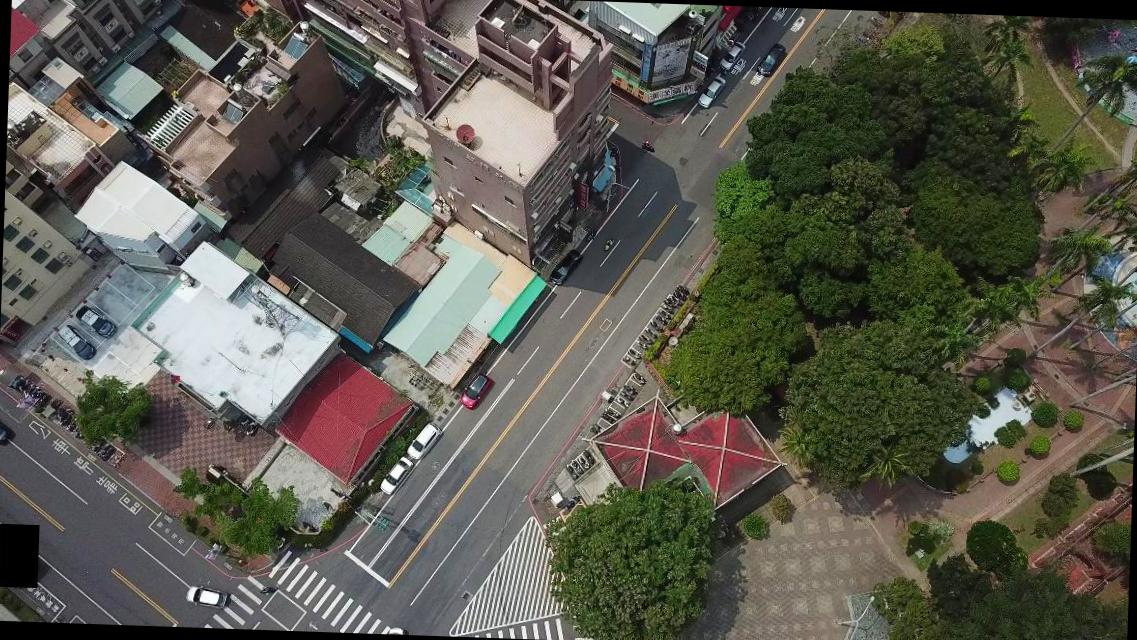vehicle: (405, 421, 442, 462), (378, 454, 413, 496), (73, 305, 117, 338), (56, 324, 96, 360), (458, 372, 494, 411), (548, 248, 584, 286), (184, 582, 228, 610), (754, 42, 786, 78), (696, 74, 724, 110), (718, 39, 745, 70), (0, 418, 10, 445)
